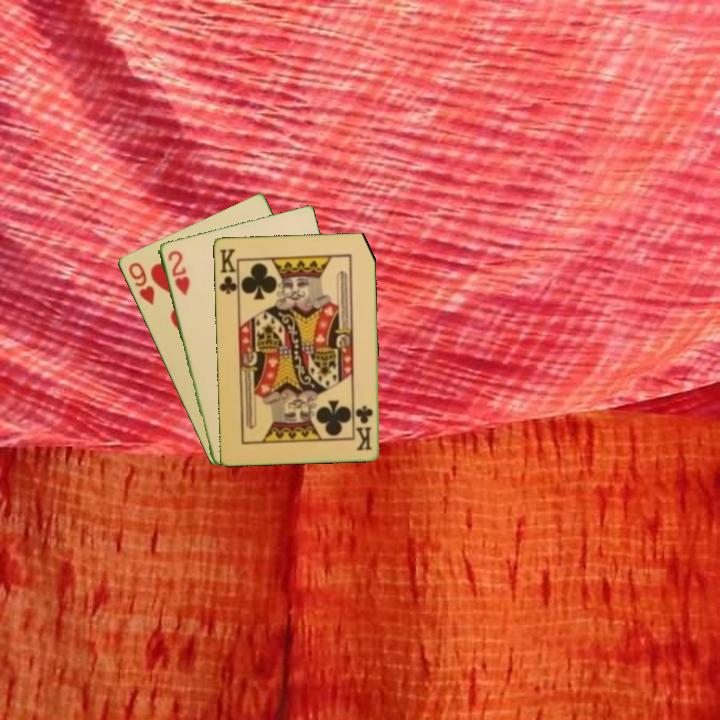2h: (164, 247, 192, 299)
9h: (124, 258, 157, 308)
Kc: (216, 245, 240, 299), (353, 402, 375, 453)
